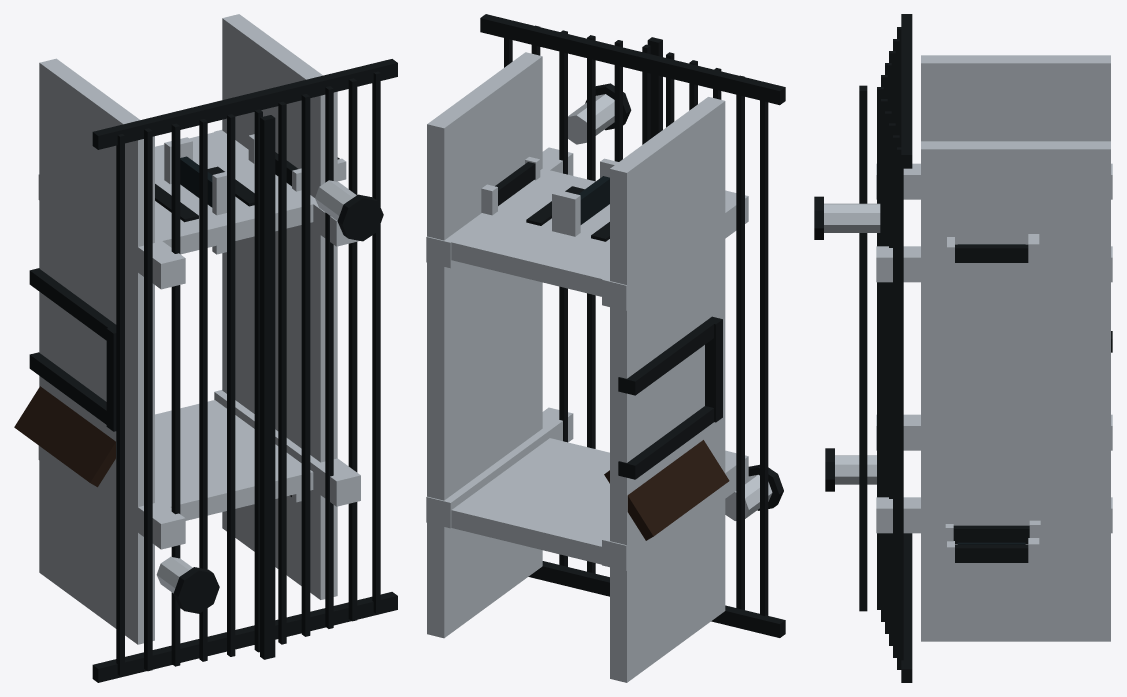
Rendered from SM_BB_LH_AnnexDetails.obj.
3 views of the same model, side by side, from view 1: azimuth 30°, elevation 25°; view 2: azimuth 150°, elevation 25°; view 3: azimuth 270°, elevation 25° (orthographic). The views are drawn at different scales.
Visible parts, largest first — view 1: SM_BB_LH_AnnexDetails; view 2: SM_BB_LH_AnnexDetails; view 3: SM_BB_LH_AnnexDetails.
Part boxes in pixels (x1,y1,x2,y2): SM_BB_LH_AnnexDetails: [14, 14, 397, 682]; SM_BB_LH_AnnexDetails: [426, 14, 785, 682]; SM_BB_LH_AnnexDetails: [814, 14, 1112, 682].
Bounding box in the file's own units: 492 × 858 × 439.
